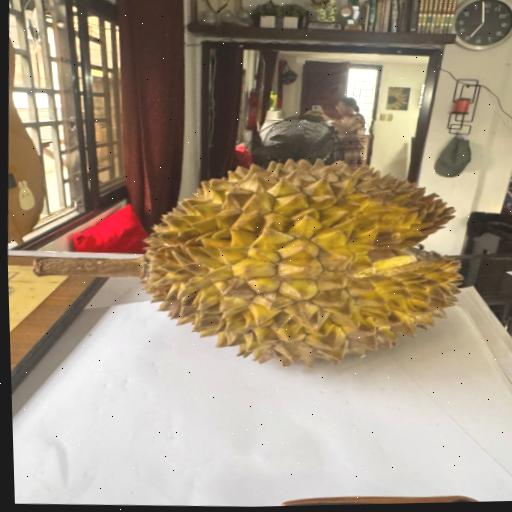rot: (10, 132, 500, 386)
